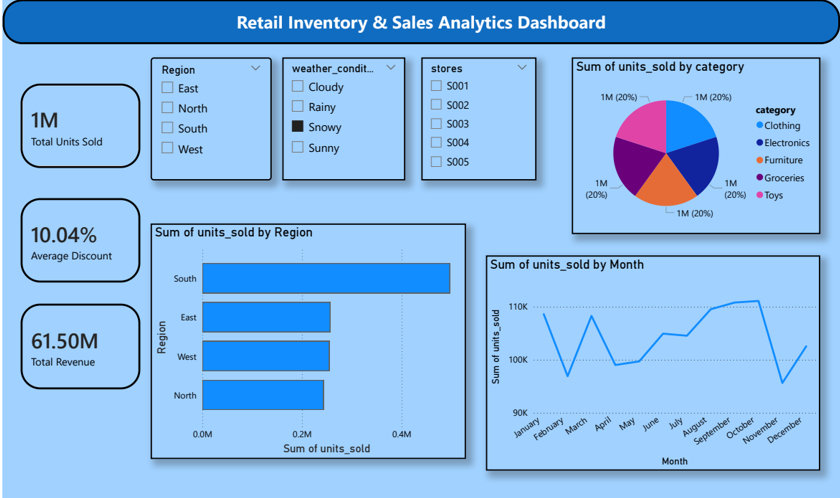

This screenshot's page, from the dashboard's own definition file:
{"tool":"powerbi","page":{"name":"Dashboard","canvas":[1280,720],"ordinal":0},"visuals":[{"type":"cardVisual","fields":{"Data":["Inventory table.Total Revenue"]},"box":[22,459.8,193.2,141.8],"z":0},{"type":"cardVisual","fields":{"Data":["Inventory table.Total Units Sold"]},"box":[22,123.5,193.2,139.4],"z":1000},{"type":"cardVisual","fields":{"Data":["Inventory table.Average Discount"]},"box":[22,298.4,193.2,139.4],"z":2000},{"type":"slicer","fields":{"Values":["Stores table.Region"]},"box":[226.2,89.3,184.6,188.3],"z":3000},{"type":"slicer","fields":{"Values":["Sales table.weather_condition"]},"box":[428,89.3,188.3,188.3],"z":4000},{"type":"clusteredBarChart","fields":{"Category":["Stores table.Region"],"Y":["Sum(Sales table.units_sold)"]},"box":[226.2,342.4,481.8,359.5],"z":5000},{"type":"pieChart","fields":{"Category":["Products table.category"],"Y":["Sum(Sales table.units_sold)"]},"box":[869.4,89.3,380.3,270.2],"z":6000},{"type":"shape","box":[0,0,1280.3,68.5],"z":7000},{"type":"lineChart","fields":{"Category":["Sales table.sale_date.Variation.Date Hierarchy.Month"],"Y":["Sum(Sales table.units_sold)"]},"box":[738.6,391.3,511.1,328.9],"z":8000},{"type":"slicer","fields":{"Values":["Sales table.store_id"]},"box":[639.5,89.3,176.1,188.3],"z":9000}]}

Visuals, with their boxes in screenshot pixels (x1, y1, x2, y2):
cardVisual - Inventory table.Total Revenue: Rect(21, 295, 146, 387)
cardVisual - Inventory table.Total Units Sold: Rect(21, 78, 146, 168)
cardVisual - Inventory table.Average Discount: Rect(21, 191, 146, 281)
slicer - Stores table.Region: Rect(153, 56, 272, 177)
slicer - Sales table.weather_condition: Rect(284, 56, 405, 177)
clusteredBarChart - Stores table.Region x Sum(Sales table.units_sold): Rect(153, 219, 465, 452)
pieChart - Products table.category x Sum(Sales table.units_sold): Rect(569, 56, 815, 230)
shape: Rect(7, 0, 835, 42)
lineChart - Sales table.sale_date.Variation.Date Hierarchy.Month x Sum(Sales table.units_sold): Rect(485, 251, 815, 464)
slicer - Sales table.store_id: Rect(420, 56, 534, 177)
